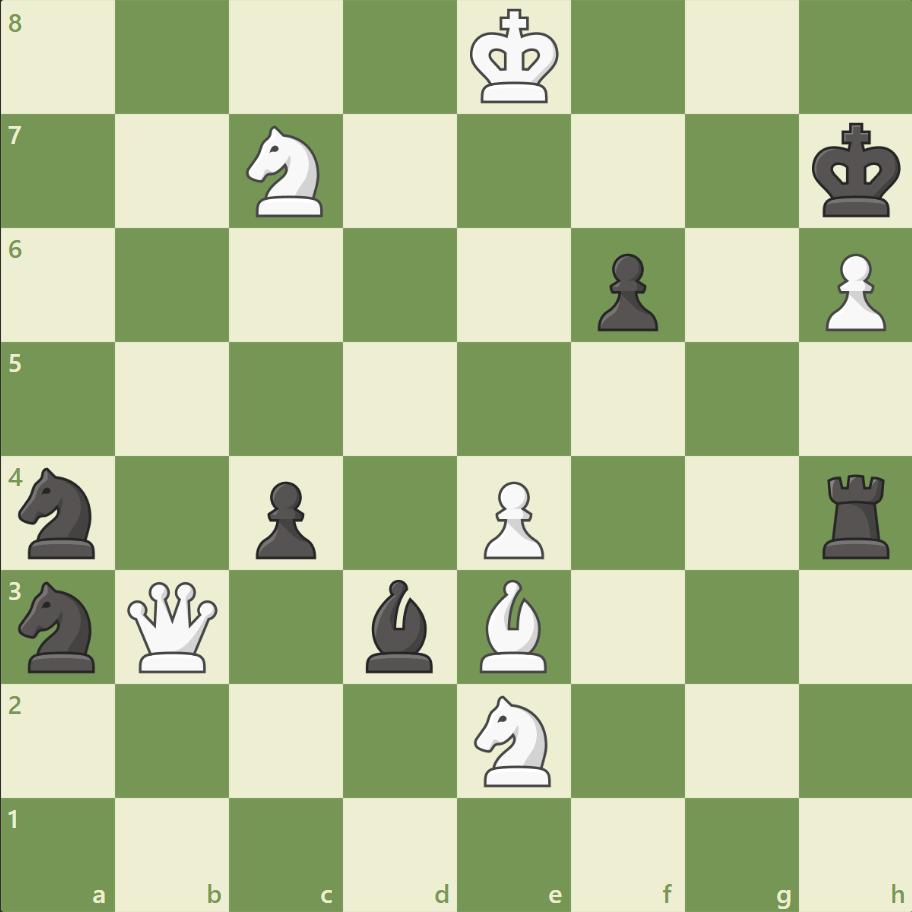B: (471, 574, 555, 676)
K: (465, 4, 565, 112)
N: (465, 688, 562, 791), (238, 121, 335, 223)
P: (474, 473, 549, 564), (815, 246, 889, 337)
Q: (124, 576, 223, 676)
b: (358, 574, 442, 676)
k: (806, 117, 906, 225)
n: (11, 461, 108, 564), (11, 575, 108, 677)
p: (247, 473, 322, 564), (588, 246, 662, 337)
r: (814, 466, 897, 563)
